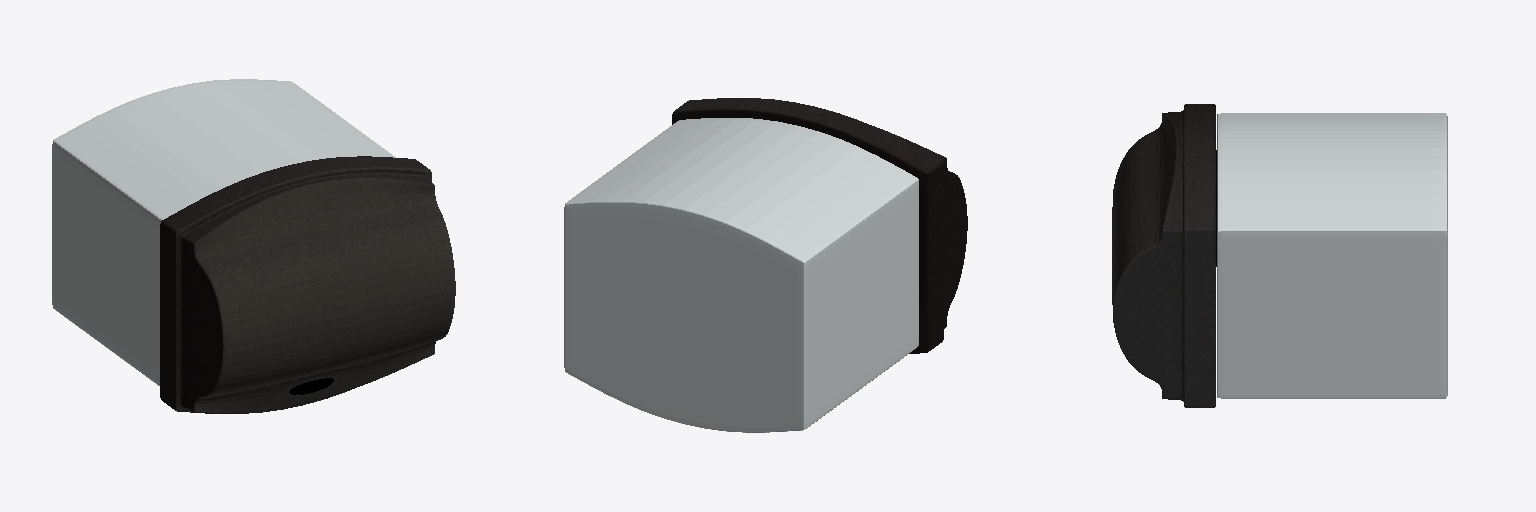
3 views of the same model, side by side, from view 1: azimuth 30°, elevation 25°; view 2: azimuth 150°, elevation 25°; view 3: azimuth 270°, elevation 25° (orthographic).
Parts seen in each view (by area): view 1: tank, tank_glass; view 2: tank_glass, tank; view 3: tank_glass, tank.
Boxes of the visible parts, x1=… form: tank: x1=160, y1=156, x2=455, y2=413; tank_glass: x1=52, y1=79, x2=395, y2=385; tank_glass: x1=564, y1=118, x2=918, y2=432; tank: x1=672, y1=98, x2=967, y2=353; tank_glass: x1=1217, y1=113, x2=1447, y2=398; tank: x1=1112, y1=104, x2=1216, y2=407.
Size of the model in its own units: 19.19 by 16.4 by 21.76.
2 materials, 1 textured.